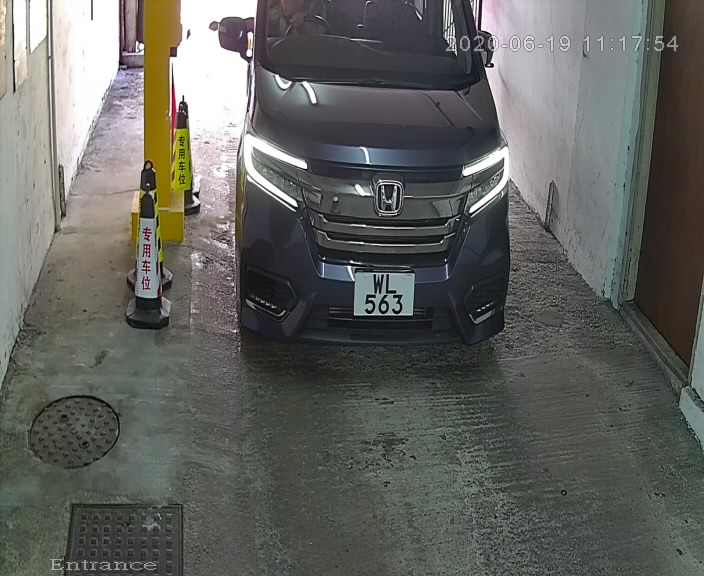privatecar: (219, 3, 533, 374)
